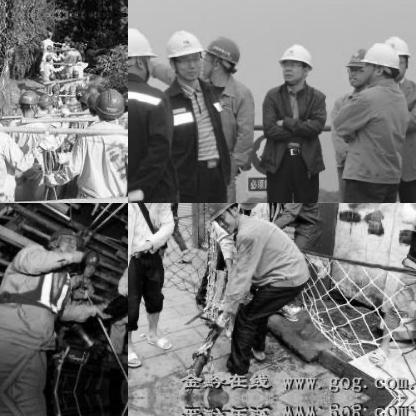Helmet: (198, 32, 240, 84), (162, 24, 202, 78), (276, 38, 314, 86), (356, 42, 394, 84), (128, 26, 153, 81), (342, 44, 376, 84), (203, 203, 245, 231), (46, 226, 84, 254), (386, 32, 408, 78), (94, 86, 124, 118), (16, 86, 36, 115), (80, 248, 98, 278), (229, 203, 264, 213), (86, 89, 100, 112), (36, 90, 50, 110), (0, 81, 6, 119)
